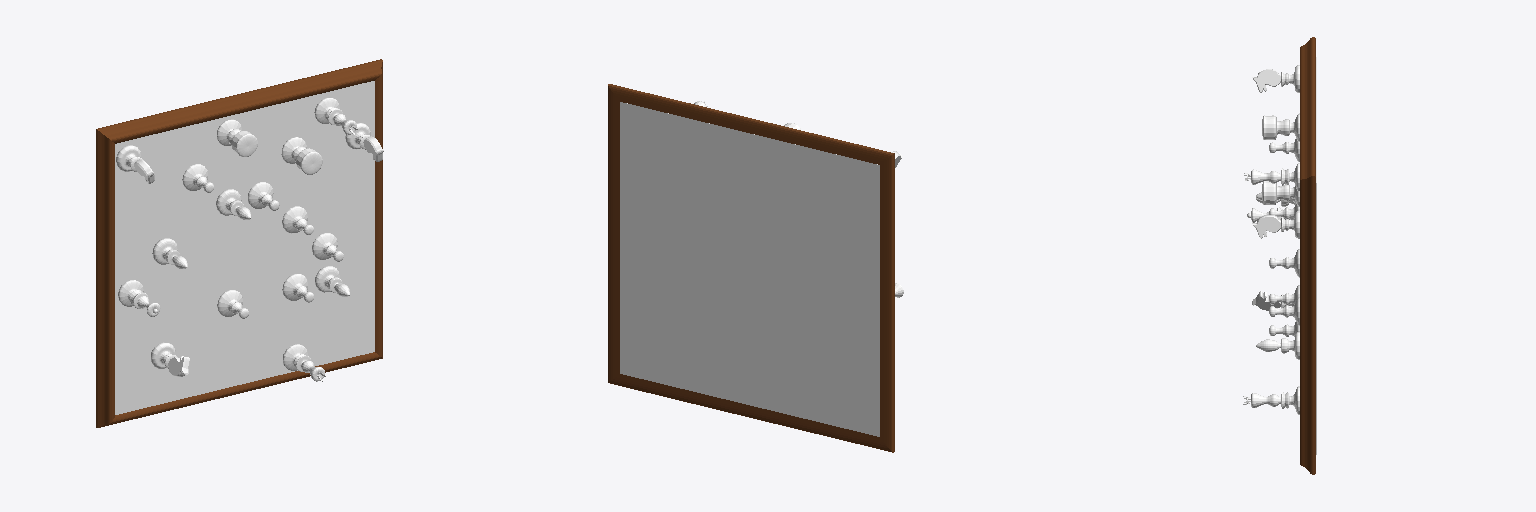
Rendered from gms001.obj.
3 renders of one model, left to right at view 1: azimuth 30°, elevation 25°; view 2: azimuth 150°, elevation 25°; view 3: azimuth 270°, elevation 25°, orthographic.
Parts seen in each view (by area): view 1: Desk, Line01, black_Tur0, black_Turr, White_King, White_Quee, White_Kin0, blackSlon_, White_Slo0, White_Slon, White_Pesh, White_Pes0 (+4 smaller); view 2: Desk, Line01; view 3: Line01, black_Turr, black_Tur0, White_King, White_Kin0, White_Slo0.
Part boxes in pixels (x1,y1,x2,y2): Desk: (115, 81, 374, 414); Line01: (96, 59, 382, 427); black_Tur0: (281, 137, 322, 174); black_Turr: (217, 119, 257, 156); White_King: (283, 344, 324, 381); White_Quee: (118, 280, 160, 316); White_Kin0: (314, 98, 356, 134); blackSlon_: (216, 189, 250, 219); White_Slo0: (315, 266, 349, 296); White_Slon: (152, 238, 187, 268); White_Pesh: (282, 274, 313, 302); White_Pes0: (312, 233, 343, 261); Desk: (620, 102, 879, 436); Line01: (608, 84, 894, 452); Line01: (1300, 37, 1315, 474); black_Turr: (1262, 113, 1299, 141); black_Tur0: (1262, 181, 1299, 206); White_King: (1251, 386, 1299, 414); White_Kin0: (1251, 163, 1299, 190); White_Slo0: (1256, 332, 1299, 359).
Bounding box in the file's own units: 446 × 446 × 98.86.